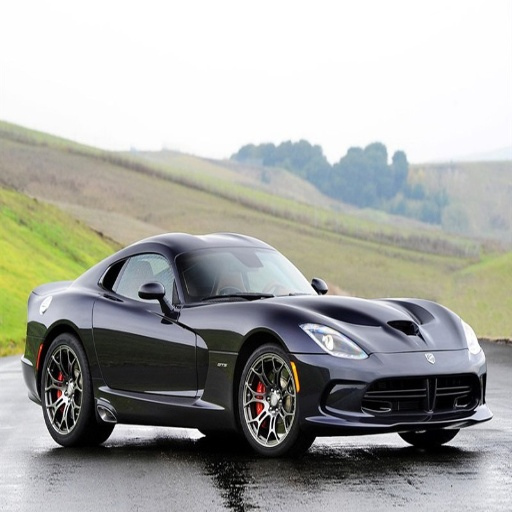front_bumper: (298, 348, 484, 433)
front_glass: (179, 240, 307, 299)
front_left_door: (94, 251, 167, 396)
front_right_door: (145, 253, 195, 398)
front_right_light: (301, 323, 362, 359)
